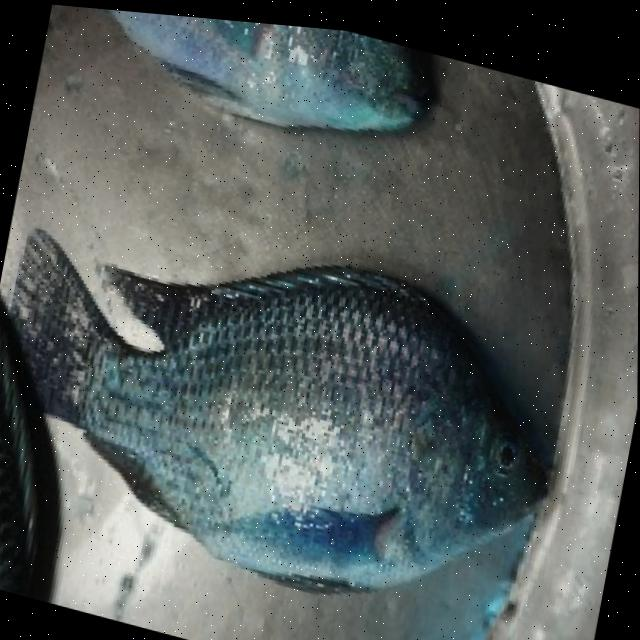Fresh: (8, 154, 604, 628)
